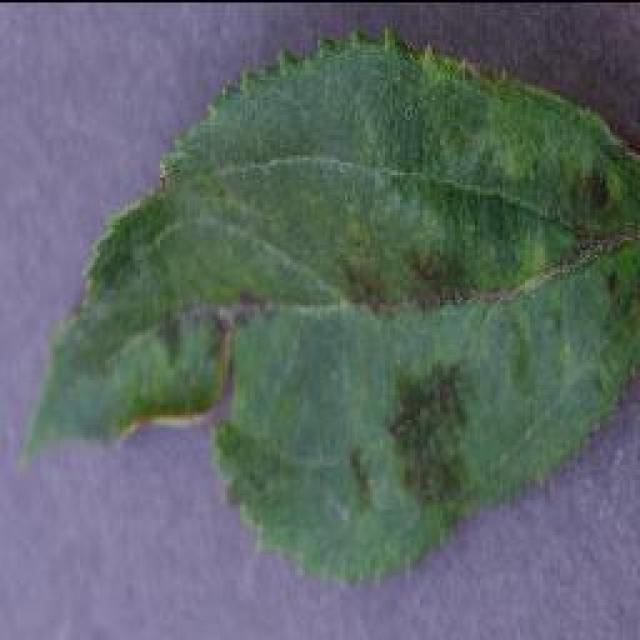apple scab disease: (18, 25, 638, 585)
